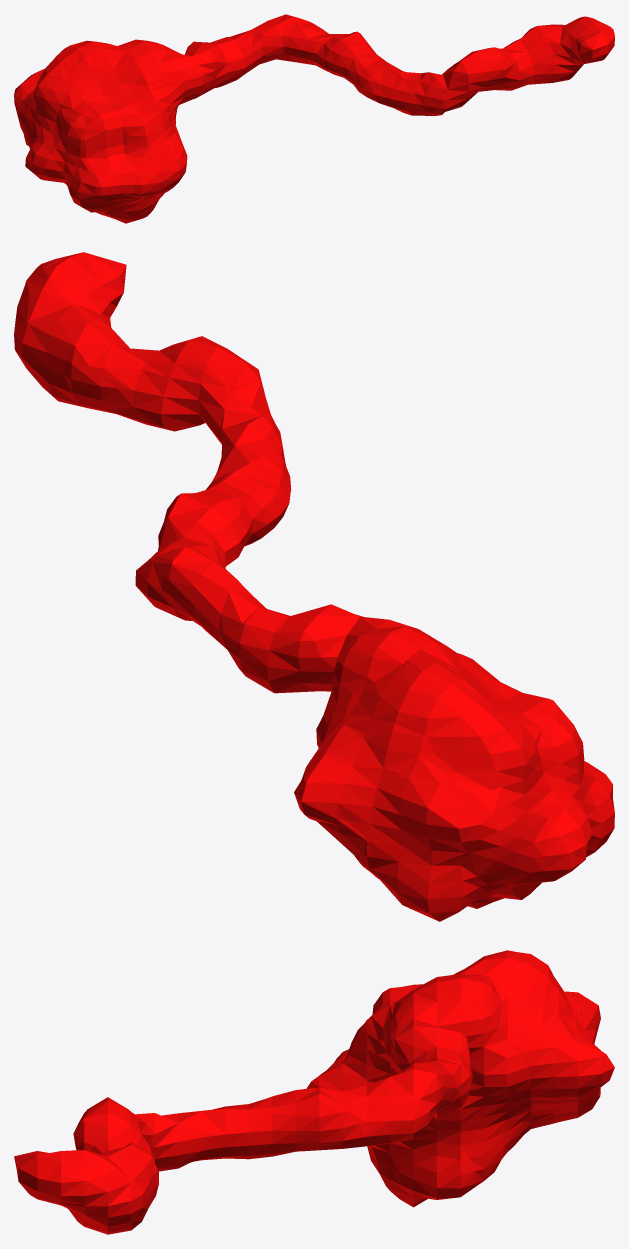
File: yfcN_coarse.dae
3 renders of one model, top to bottom at view 1: azimuth 30°, elevation 25°; view 2: azimuth 150°, elevation 25°; view 3: azimuth 270°, elevation 25°, orthographic. The views are drawn at different scales.
Visible parts, largest first — view 1: yfcN; view 2: yfcN; view 3: yfcN.
Part boxes in pixels (x1,y1,x2,y2): yfcN: [14, 14, 614, 223]; yfcN: [14, 252, 614, 921]; yfcN: [14, 950, 614, 1234].
Size of the model in its own units: 121 by 51.99 by 93.45.
